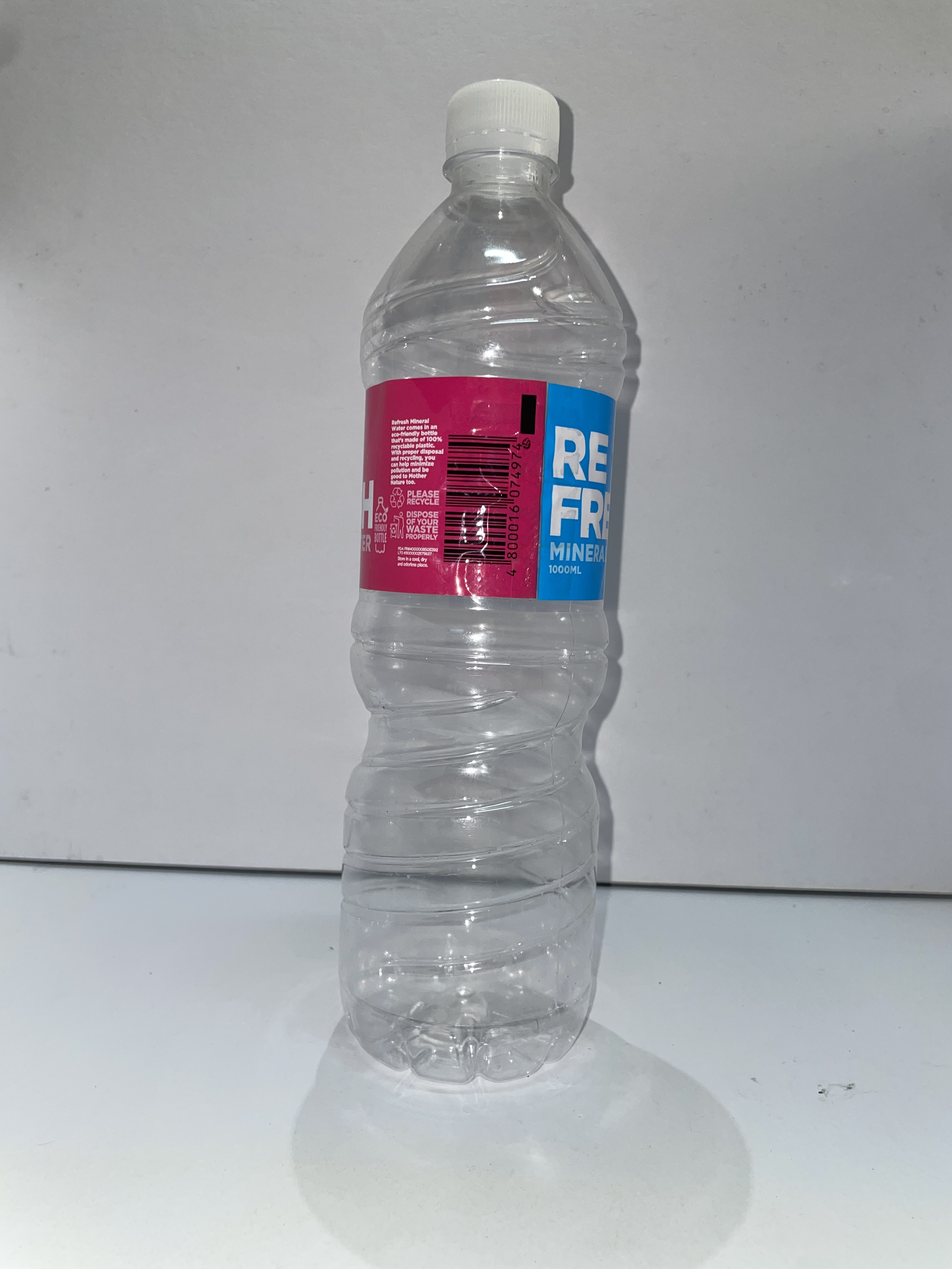Refresh 1000ml: (340, 80, 625, 1085)
